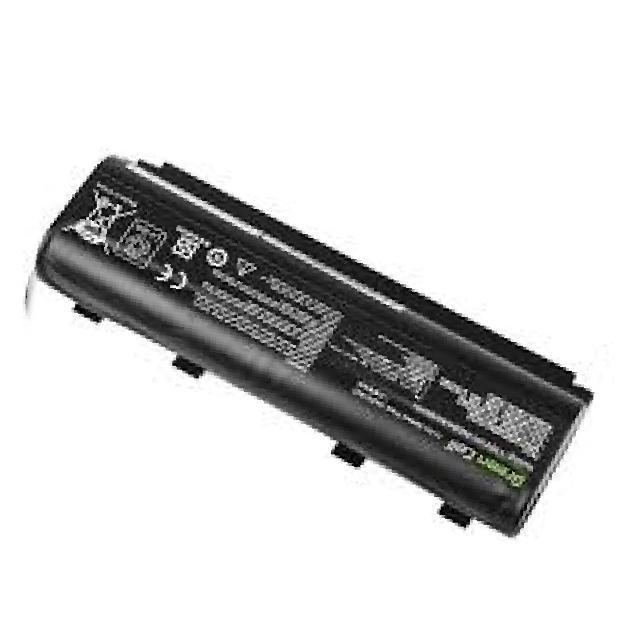Battery: (3, 144, 640, 562)
